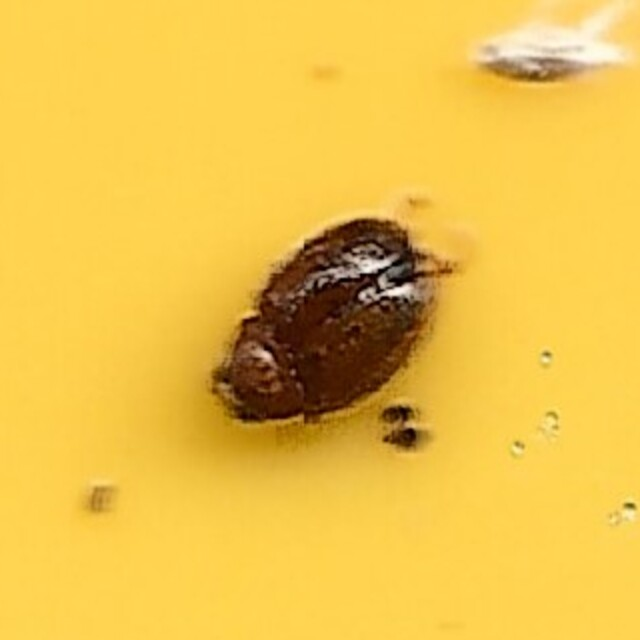Coleoptera: (200, 228, 440, 412)
